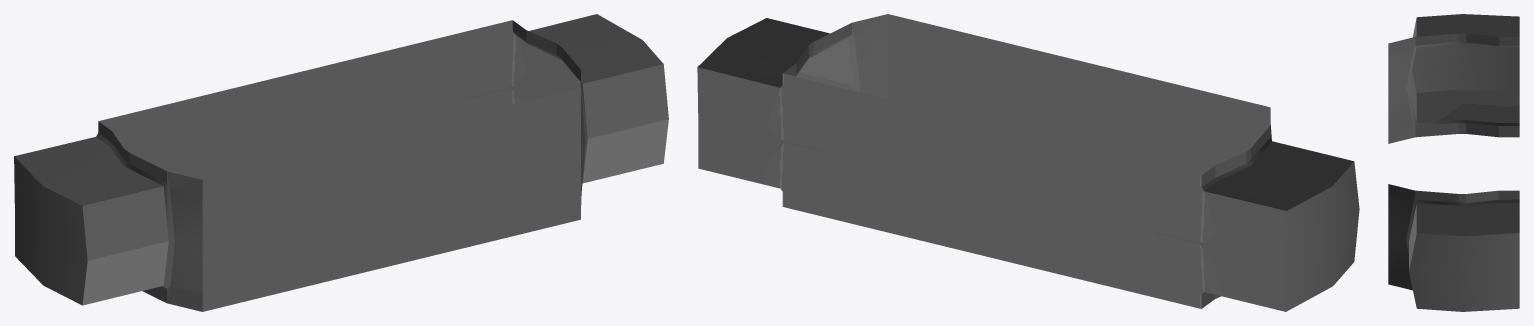
3 renders of one model, left to right at view 1: azimuth 30°, elevation 25°; view 2: azimuth 150°, elevation 25°; view 3: azimuth 270°, elevation 25°, orthographic. The views are drawn at different scales.
Visible parts, largest first — view 1: group_13; view 2: group_13; view 3: group_13.
Part boxes in pixels (x1=…): group_13: x1=14, y1=14, x2=668, y2=311; group_13: x1=697, y1=14, x2=1359, y2=311; group_13: x1=1388, y1=14, x2=1519, y2=311.
Bounding box in the file's own units: 19458 × 4096 × 4849.
Materials: 1 (1 with a texture image).
